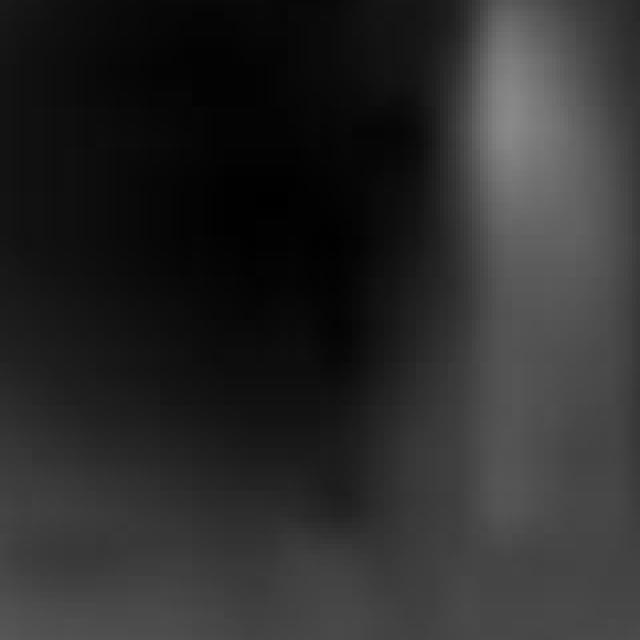person: (421, 1, 640, 582)
